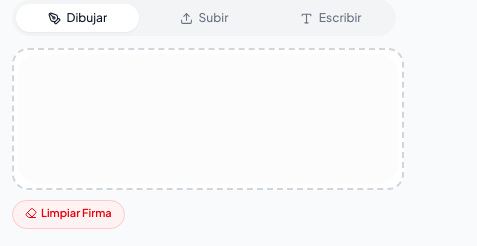
it: FirmaDigitalCanvas - 3 Modos › permite cambiar a modo subir imagen
What coordinates should you click on to do the following:
click the button "Subir"
I would click on:
 (204, 18)
Its box is [143, 4, 265, 32].
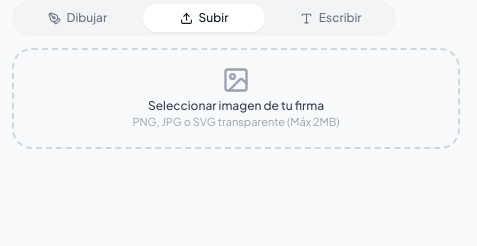
Expected: the text "Seleccionar imagen de tu firma" is shown, [148, 98, 324, 114]
